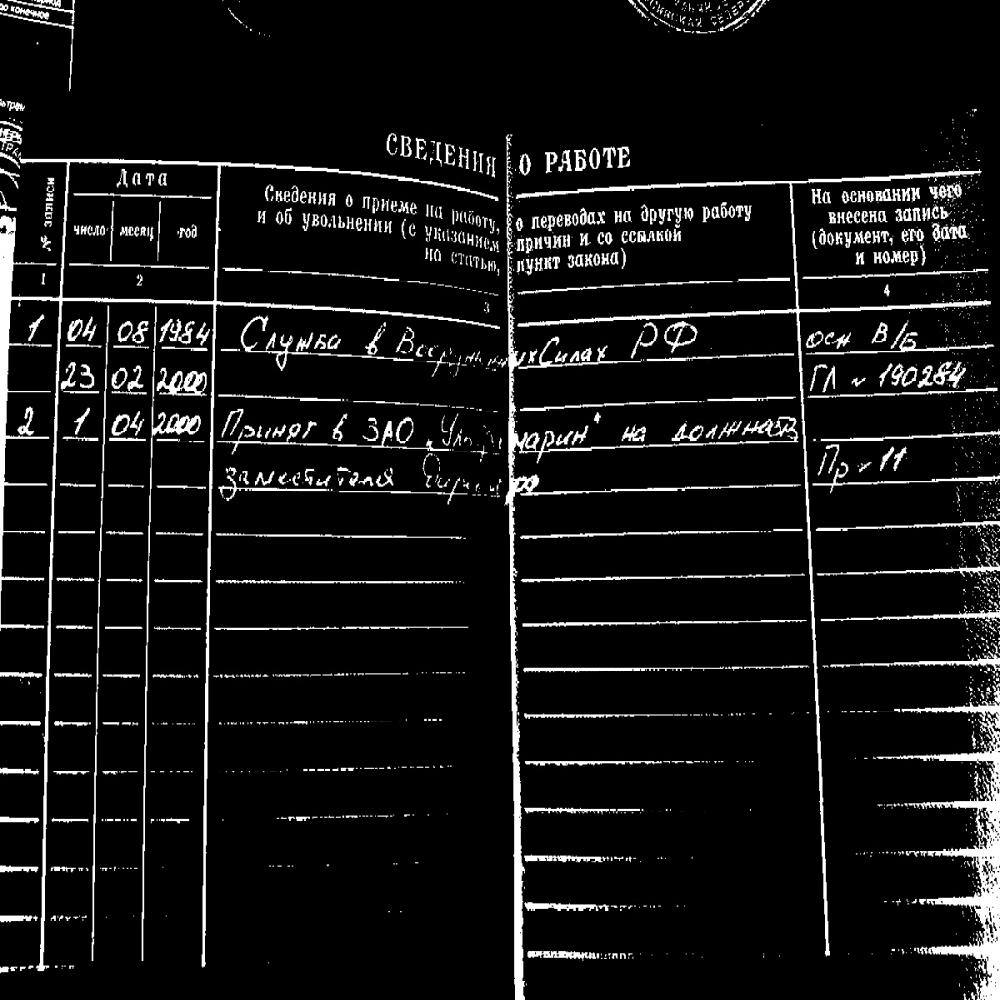rus: (796, 182, 975, 268), (377, 120, 648, 174), (364, 319, 616, 374), (8, 293, 221, 347), (220, 446, 400, 505), (339, 410, 611, 444), (622, 404, 801, 452), (229, 300, 348, 367), (7, 357, 211, 394), (806, 350, 970, 396), (3, 400, 214, 433), (419, 454, 550, 499), (219, 395, 326, 448), (804, 310, 937, 350), (811, 435, 920, 482), (629, 306, 697, 368), (252, 172, 340, 211), (259, 213, 393, 236), (344, 186, 418, 218), (424, 200, 497, 229), (424, 247, 500, 271), (114, 162, 170, 194), (613, 200, 697, 221), (703, 197, 755, 226), (514, 211, 608, 227), (512, 232, 588, 251), (565, 250, 630, 271), (120, 215, 159, 246), (595, 229, 680, 243), (170, 214, 206, 244), (520, 251, 564, 275), (68, 218, 109, 243), (43, 171, 53, 254)
